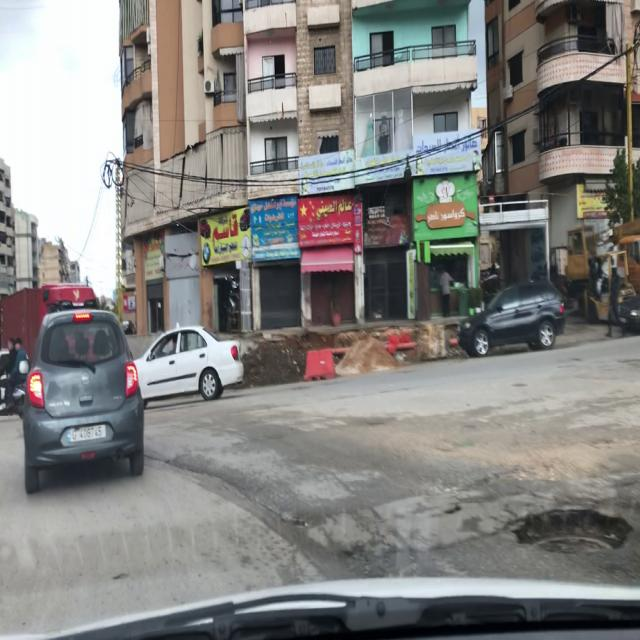Pothole: (508, 500, 636, 562)
